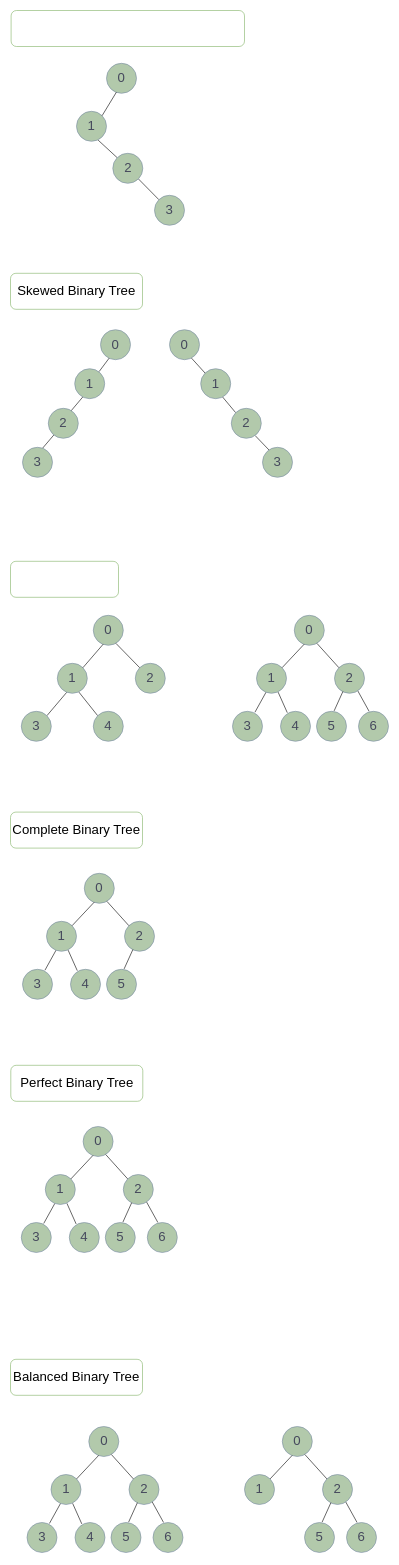
The diagram is 399 pixels wide and 1565 high, and some of its shapes have lost their labels. The shapes that lost their labels are listed below. From the top down, each one's centre as x and y in pixels, then its label:
point 127,28: Degenerate/Pathological Binary Tree
point 64,579: Full Binary Tree
